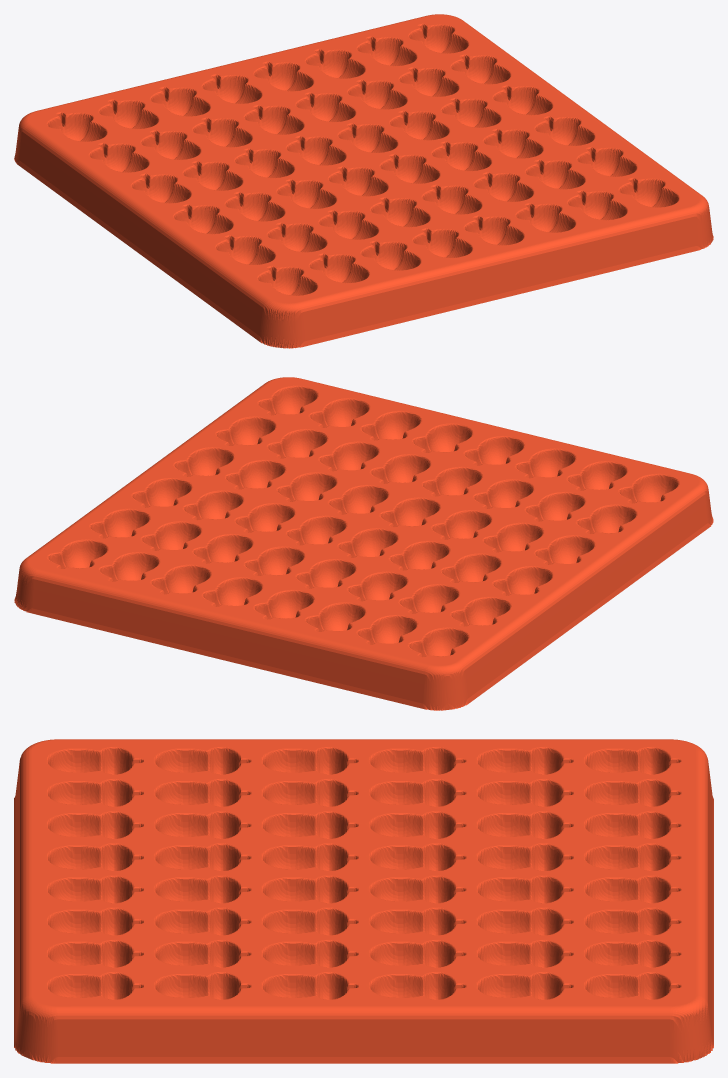
File: mold.glb
3 views of the same model, one above another, from view 1: azimuth 30°, elevation 25°; view 2: azimuth 150°, elevation 25°; view 3: azimuth 270°, elevation 25° (orthographic). The views are drawn at different scales.
Parts seen in each view (by area): view 1: geometry_0; view 2: geometry_0; view 3: geometry_0.
Part boxes in pixels (bbox=[...]): geometry_0: bbox=[14, 14, 713, 348]; geometry_0: bbox=[14, 377, 713, 710]; geometry_0: bbox=[14, 739, 713, 1063].
Size of the model in its own units: 0.1369 by 0.0114 by 0.1443.
